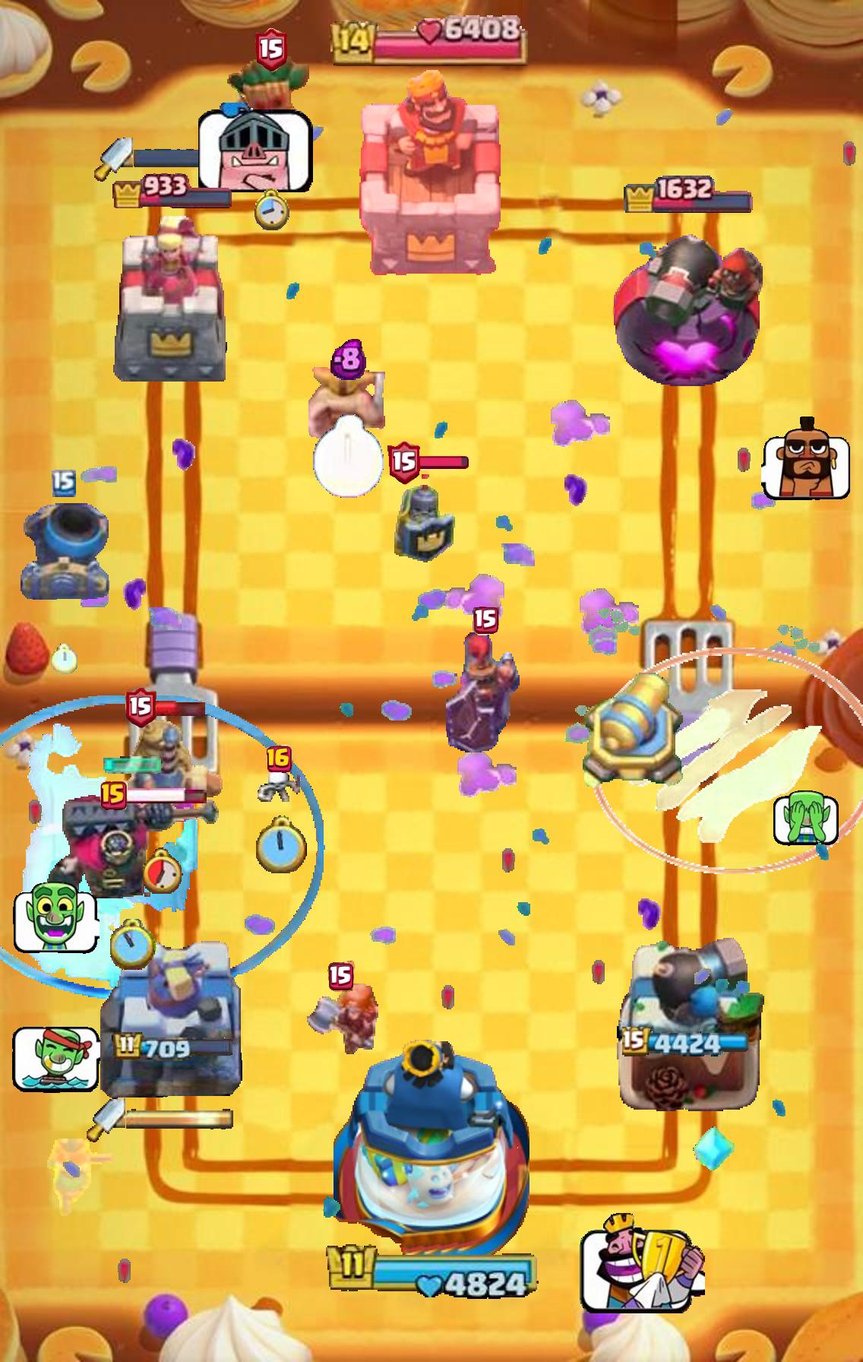cannon: (579, 669, 688, 793)
elixir: (330, 337, 366, 380)
